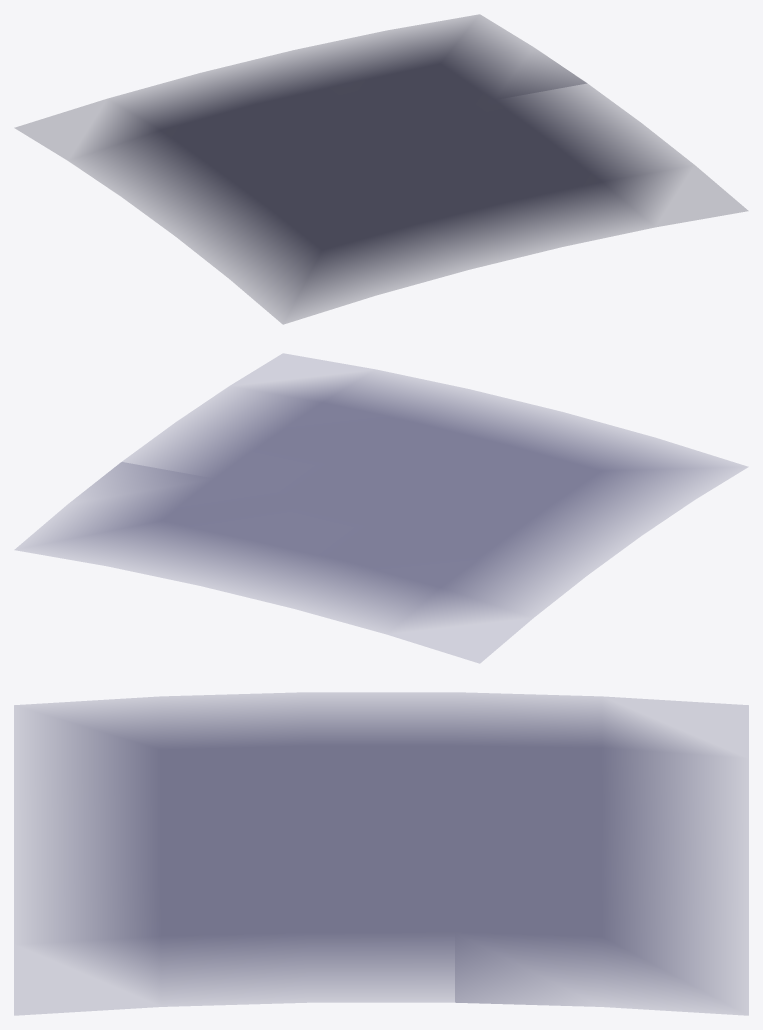
The picture shows the model from 3 angles, top to bottom: view 1: azimuth 30°, elevation 25°; view 2: azimuth 150°, elevation 25°; view 3: azimuth 270°, elevation 25°; orthographic projection. The views are drawn at different scales.
Visible parts, largest first — view 1: Joint_0_Object_0; view 2: Joint_0_Object_0; view 3: Joint_0_Object_0.
Part boxes in pixels (<box>): Joint_0_Object_0: <box>15,14,747,324</box>; Joint_0_Object_0: <box>15,353,747,663</box>; Joint_0_Object_0: <box>14,692,748,1015</box>.
Bounding box in the file's own units: 10000 × 376 × 10000.
Materials: 1 (1 with a texture image).
